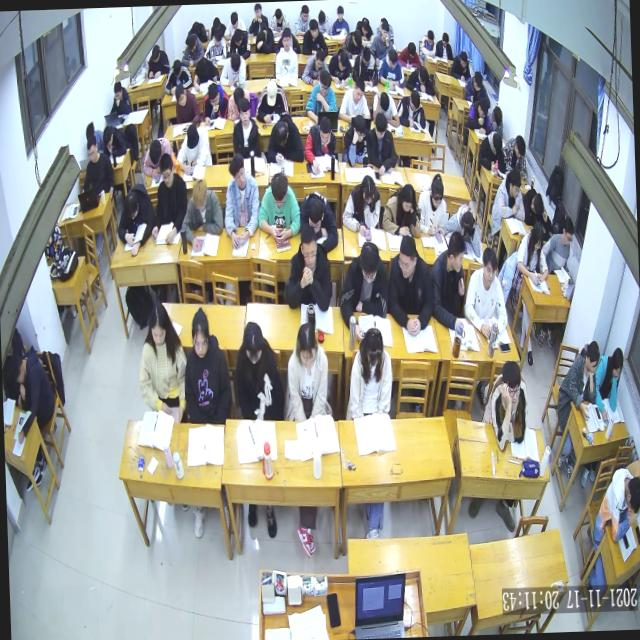bow: (485, 358, 530, 453), (178, 176, 223, 252), (115, 181, 156, 256), (298, 188, 338, 254), (380, 180, 420, 238), (443, 202, 482, 258), (264, 112, 304, 166), (254, 78, 290, 124), (140, 134, 176, 180), (521, 184, 551, 230), (476, 128, 506, 173), (370, 88, 400, 128), (376, 46, 404, 88), (326, 46, 353, 89), (299, 47, 328, 87), (163, 58, 193, 94), (100, 123, 128, 159), (464, 98, 492, 134), (191, 54, 217, 92), (405, 64, 435, 96), (225, 26, 251, 60), (226, 84, 250, 120), (397, 40, 421, 70), (342, 26, 364, 58), (253, 24, 275, 54), (420, 28, 438, 57), (356, 16, 374, 45)
down: (190, 308, 211, 361), (396, 233, 419, 281), (358, 240, 381, 286), (242, 318, 264, 366), (296, 322, 318, 367), (148, 302, 168, 347), (364, 326, 384, 368), (268, 170, 288, 210), (7, 349, 26, 385), (306, 196, 324, 233), (191, 177, 209, 214), (157, 151, 174, 188), (624, 475, 640, 514), (122, 190, 140, 222), (184, 120, 200, 152), (400, 183, 416, 215), (609, 344, 624, 378), (508, 166, 523, 199), (272, 118, 288, 148), (352, 114, 368, 144), (429, 176, 444, 208), (360, 174, 376, 204), (458, 210, 474, 238), (560, 216, 574, 248), (318, 115, 332, 146), (528, 191, 544, 218), (530, 222, 544, 252), (264, 79, 278, 108), (148, 138, 162, 167), (352, 76, 366, 104), (318, 69, 332, 97), (374, 112, 388, 140), (85, 134, 98, 164), (207, 82, 220, 108), (174, 82, 187, 108), (407, 89, 420, 114), (514, 134, 526, 160), (102, 125, 114, 150), (230, 51, 242, 75), (490, 132, 502, 156), (196, 59, 208, 82), (378, 91, 391, 112), (254, 27, 266, 49), (314, 48, 326, 70), (492, 104, 503, 128), (478, 98, 490, 120), (232, 27, 244, 48), (417, 64, 428, 86), (336, 52, 348, 72), (388, 46, 398, 70), (112, 80, 122, 102), (186, 34, 197, 54), (308, 16, 318, 38), (361, 46, 372, 66), (351, 28, 362, 48), (150, 44, 160, 64), (172, 58, 182, 78), (213, 26, 223, 46), (473, 72, 483, 92), (458, 50, 468, 70), (406, 40, 416, 59), (361, 16, 370, 36), (441, 30, 450, 48), (426, 29, 434, 46)
lookup: (500, 358, 522, 411), (298, 226, 319, 271), (480, 246, 498, 287), (230, 154, 247, 192), (237, 96, 251, 124), (280, 27, 292, 50), (380, 20, 390, 40), (336, 4, 344, 21)
sit: (180, 305, 234, 427), (136, 300, 188, 424), (337, 238, 390, 342), (382, 231, 434, 336), (232, 319, 284, 421), (7, 343, 57, 443), (282, 220, 334, 312), (460, 245, 508, 341), (286, 321, 330, 422), (346, 325, 394, 417), (426, 228, 466, 334), (554, 337, 603, 422), (589, 466, 640, 544), (220, 150, 260, 248), (148, 150, 188, 248), (255, 170, 301, 242), (339, 171, 382, 234), (593, 345, 626, 424), (515, 218, 549, 286), (80, 132, 115, 195), (540, 215, 576, 276), (174, 120, 213, 176), (302, 116, 338, 176), (230, 94, 262, 160), (365, 111, 397, 177), (417, 172, 448, 238), (488, 168, 526, 220), (304, 68, 336, 126), (336, 74, 371, 122), (340, 112, 370, 168), (173, 80, 201, 130), (200, 80, 230, 126), (273, 26, 299, 79), (396, 87, 426, 132), (502, 132, 528, 180), (352, 45, 378, 88), (300, 16, 326, 56), (218, 53, 246, 88), (370, 19, 392, 62), (146, 42, 170, 78), (180, 32, 204, 68), (203, 26, 227, 62), (109, 80, 132, 116), (463, 68, 486, 104), (448, 48, 471, 81), (486, 103, 504, 140), (330, 3, 350, 35), (434, 32, 454, 62)
